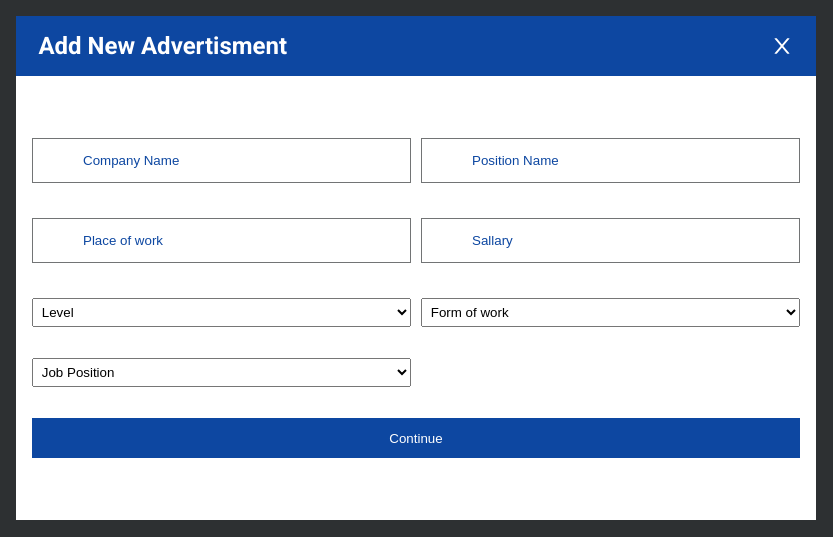
Test case: Testing add new Advertisment component › It should go to the second step when first step is correct
This screenshot has width=833, height=537.
Type "TestowePole" into the field with placeholder "Company Name".
click(222, 160); type("TestowePole")  # box [33,139,410,182]
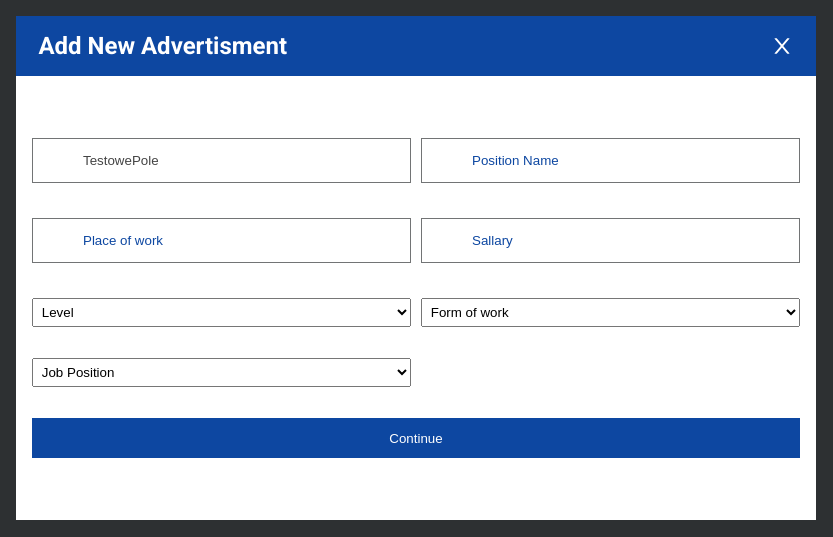
Type "TestowePole" into the field with placeholder "Position Name".
click(610, 160); type("TestowePole")  # box [422,139,799,182]
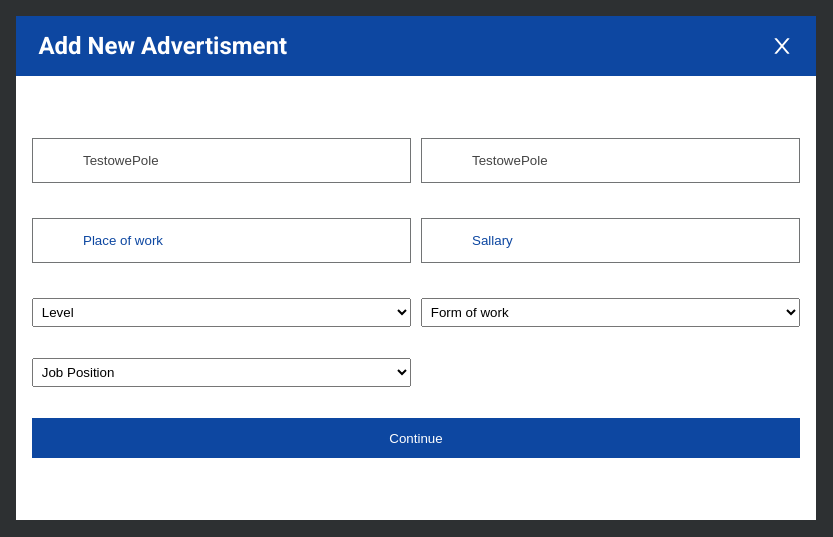
Type "TestowePole" into the field with placeholder "Place of work".
click(222, 240); type("TestowePole")  # box [33,219,410,262]
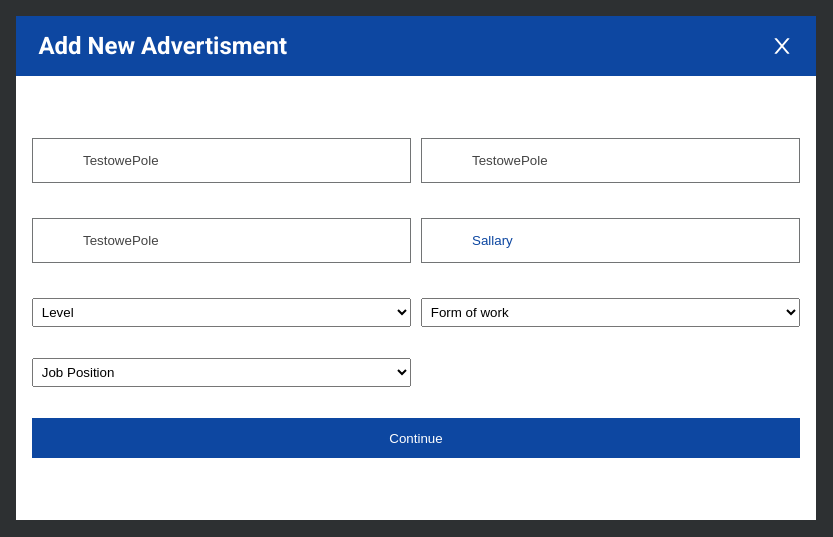
Type "TestowePole" into the field with placeholder "Sallary".
click(610, 240); type("TestowePole")  # box [422,219,799,262]
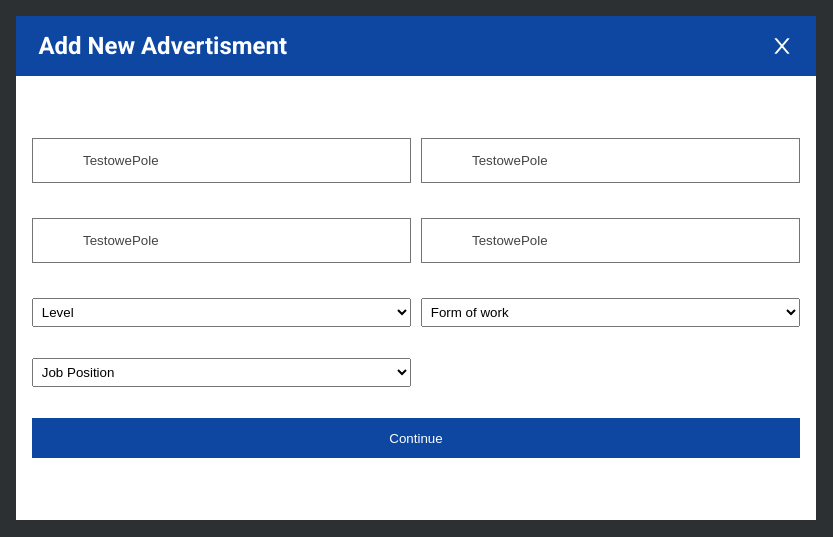
Click the button.
click(416, 438)  # box [32,418,800,458]
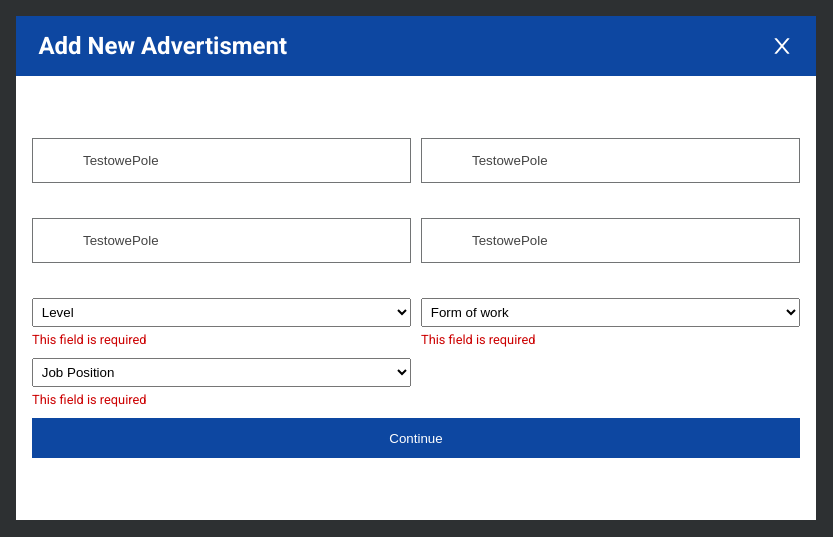
Expected: the 1st text "This field is required" is shown, [32,332,146,347]
